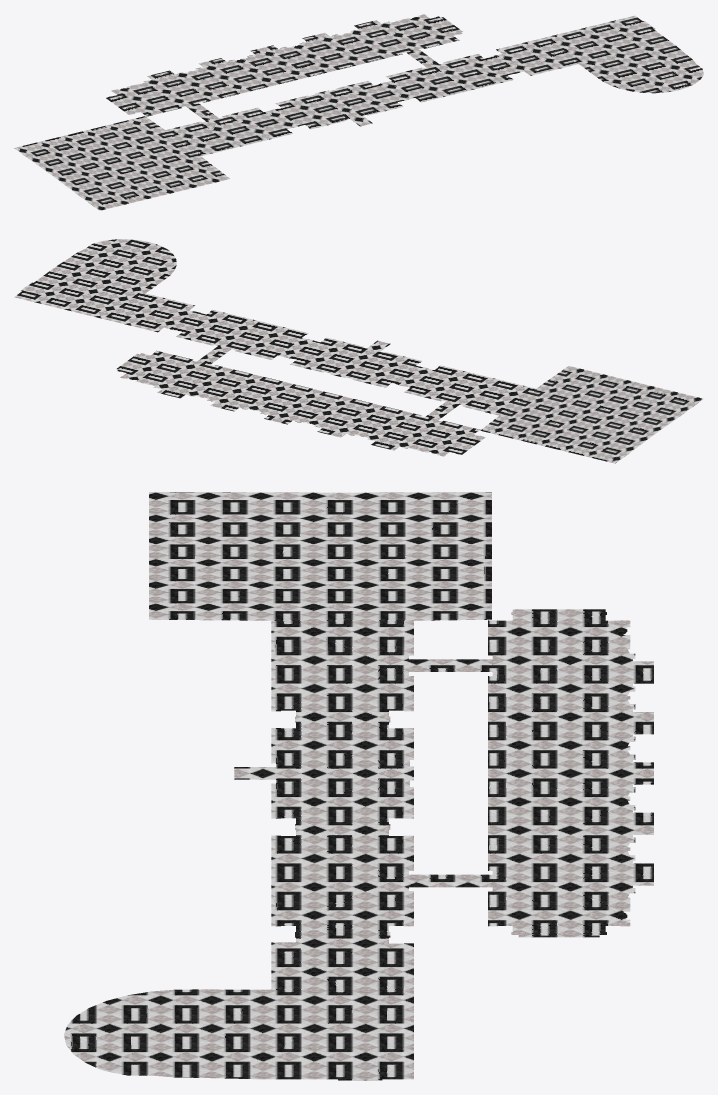
The model's file is floor.obj.
3 renders of one model, top to bottom at view 1: azimuth 30°, elevation 25°; view 2: azimuth 150°, elevation 25°; view 3: azimuth 270°, elevation 25°, orthographic. The views are drawn at different scales.
Size of the model in its own units: 80.17 by 0.0047 by 33.96.
Materials: 1 (1 with a texture image).
